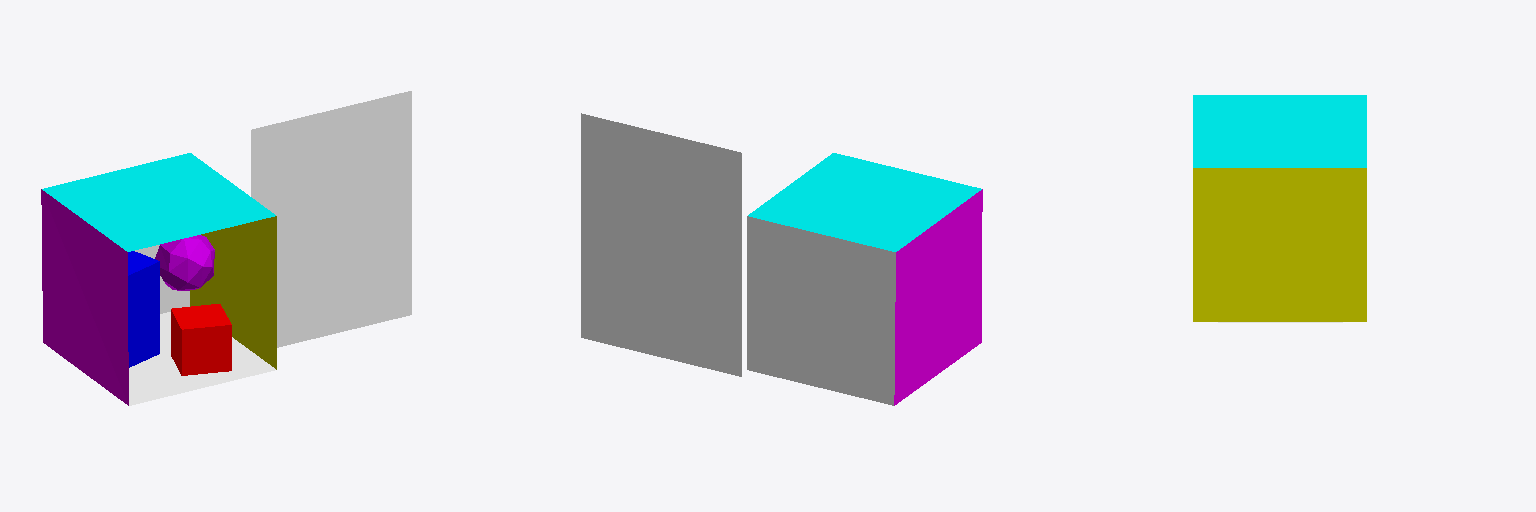
File: cornell-spicy.obj
3 views of the same model, side by side, from view 1: azimuth 30°, elevation 25°; view 2: azimuth 150°, elevation 25°; view 3: azimuth 270°, elevation 25° (orthographic).
Visible parts, largest first — view 1: floorfloor, left_wall, ceiling, right_wall, floor, short_box, tall_box, Sphere, back_wall; view 2: floorfloor, back_wall, left_wall, ceiling; view 3: right_wall, ceiling.
Boxes of the visible parts, x1,y1,x2,y2 form: floorfloor: [251, 91, 411, 347]; left_wall: [41, 189, 128, 405]; ceiling: [42, 153, 275, 251]; right_wall: [190, 216, 276, 369]; floor: [129, 312, 275, 405]; short_box: [171, 304, 231, 375]; tall_box: [128, 251, 159, 367]; Sphere: [155, 235, 214, 290]; back_wall: [135, 245, 189, 313]; floorfloor: [581, 113, 741, 376]; back_wall: [747, 216, 895, 405]; left_wall: [894, 189, 982, 405]; ceiling: [748, 153, 981, 251]; right_wall: [1193, 168, 1366, 321]; ceiling: [1193, 95, 1366, 167].
Size of the model in its own units: 12.78 by 8 by 5.6.